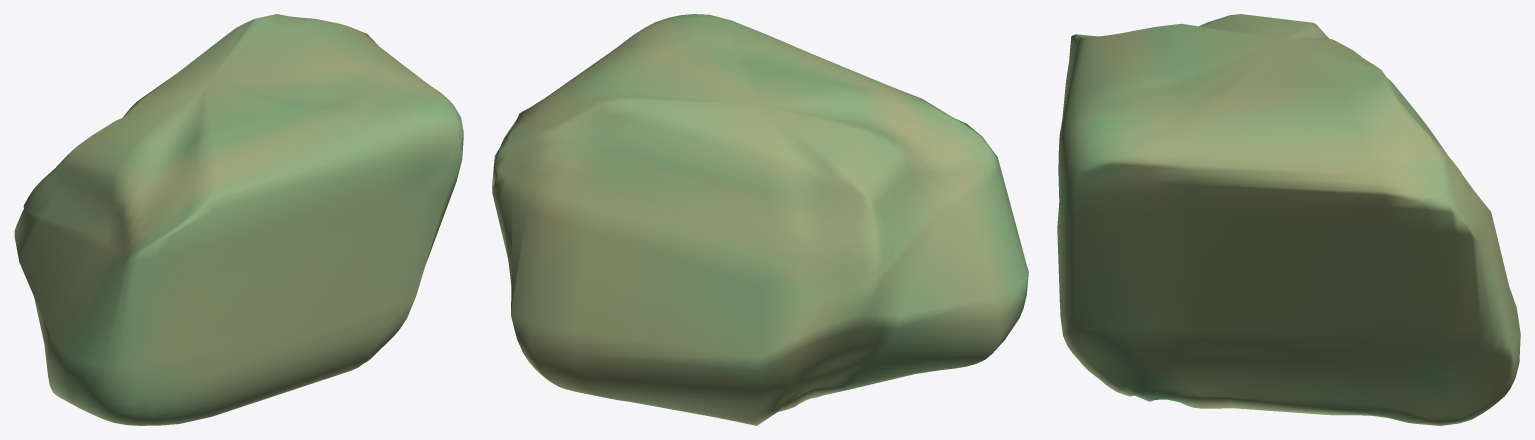
The model's file is SM_Rock_05.glb.
The picture shows the model from 3 angles, left to right: view 1: azimuth 30°, elevation 25°; view 2: azimuth 150°, elevation 25°; view 3: azimuth 270°, elevation 25°; orthographic projection. The views are drawn at different scales.
Parts seen in each view (by area): view 1: SM_Rock_05; view 2: SM_Rock_05; view 3: SM_Rock_05.
Boxes of the visible parts, x1=… form: SM_Rock_05: x1=14, y1=14, x2=463, y2=425; SM_Rock_05: x1=492, y1=14, x2=1028, y2=425; SM_Rock_05: x1=1057, y1=14, x2=1520, y2=425.
Size of the model in its own units: 1.09 by 0.7364 by 0.9038.
